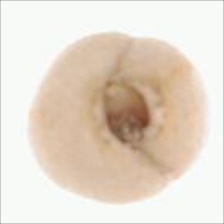L3: (99, 78, 154, 147)
L4: (27, 31, 208, 202)
